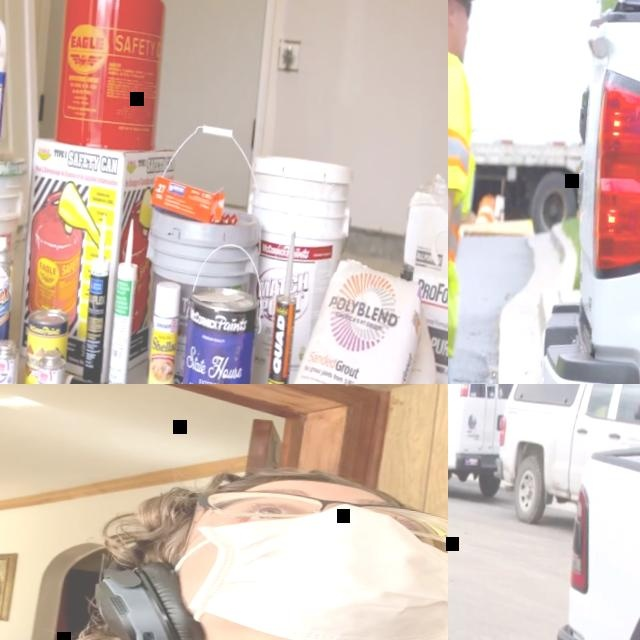Mask: (153, 493, 448, 640)
NO-Hardhat: (150, 451, 408, 504)
NO-Mask: (448, 18, 469, 63)
Person: (0, 431, 448, 640), (448, 0, 495, 384)
Safety Cone: (475, 196, 495, 224)
Safety Vest: (448, 37, 484, 344)
vehicle: (465, 0, 640, 384), (489, 384, 640, 536), (533, 430, 640, 640), (448, 384, 523, 501)
